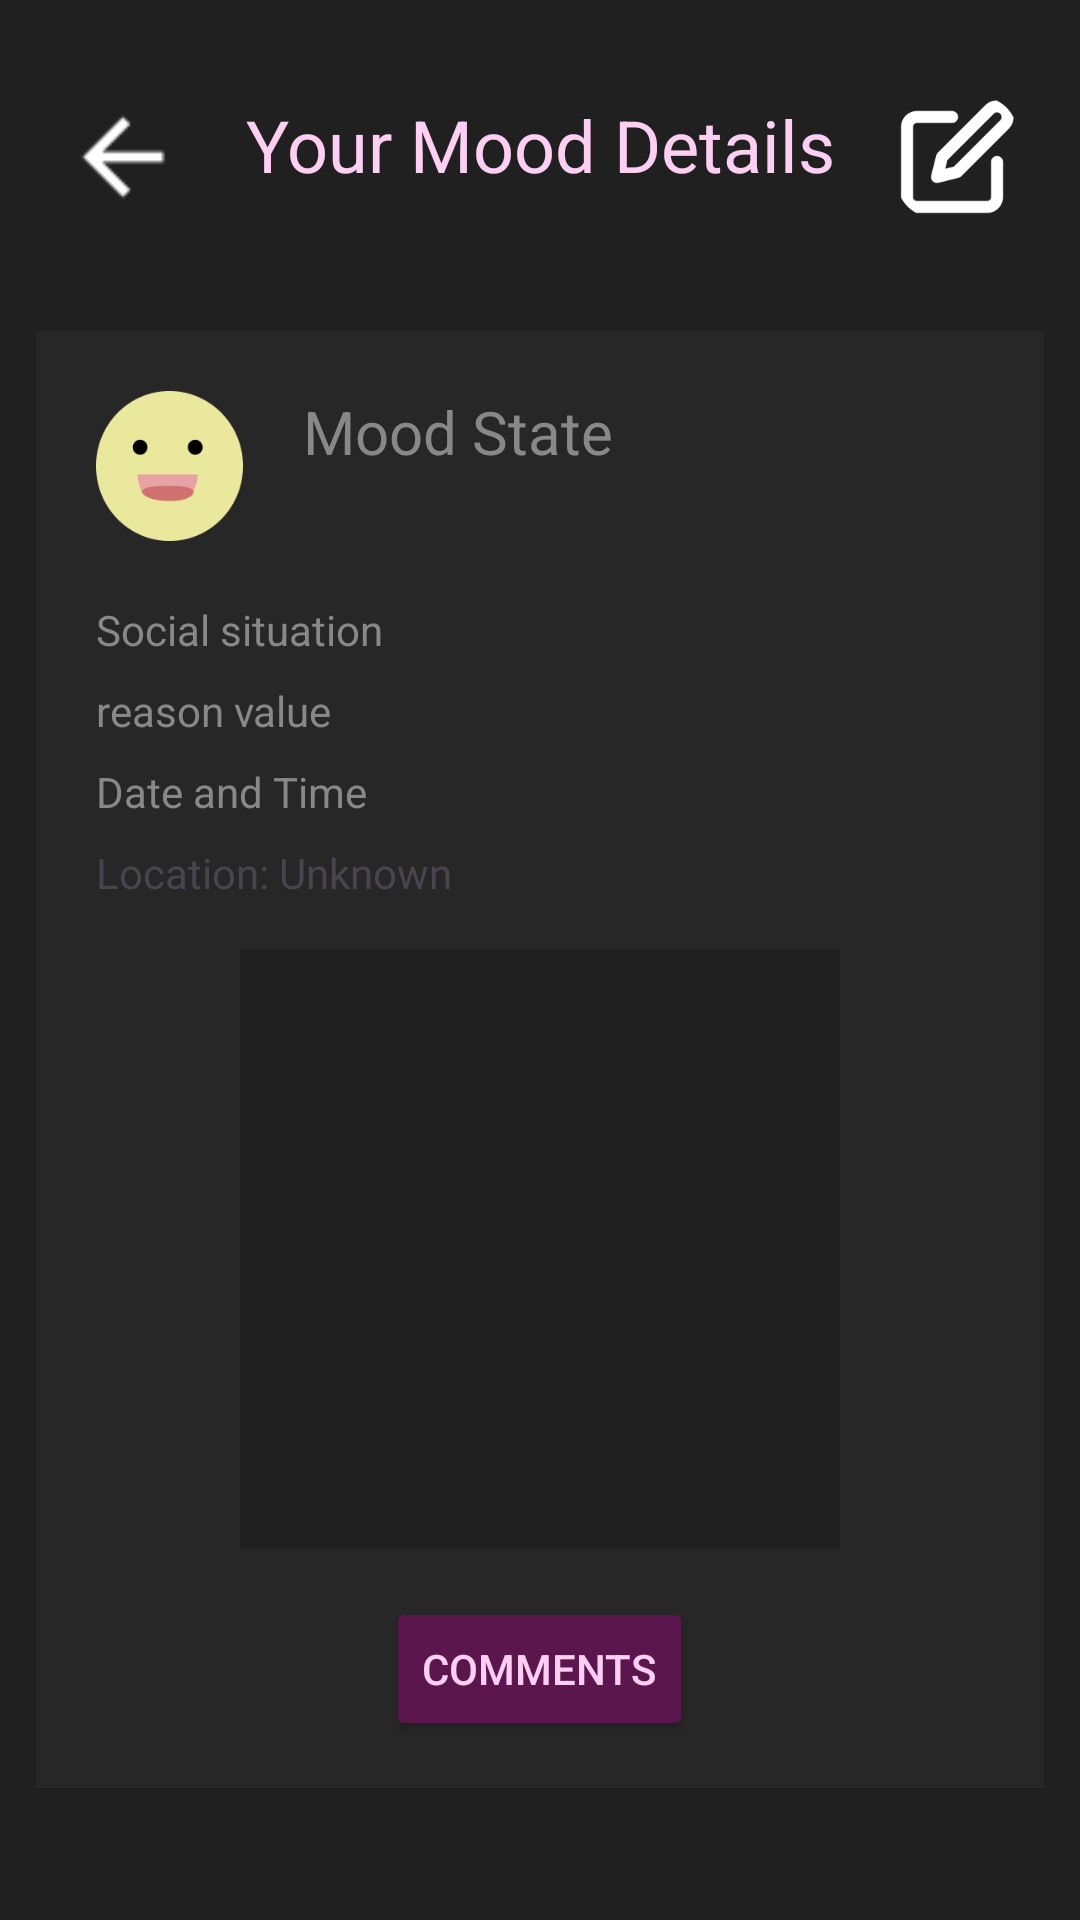

Icons on this 1080w x 1920h Android screen, each with its box as bbox=(x1, y1, x2, y2):
happy emoticon: bbox=(96, 391, 243, 541)
